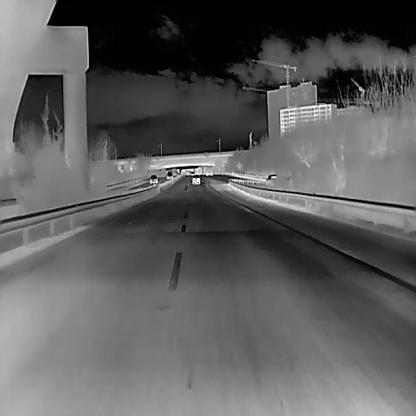car: (265, 173, 276, 185), (148, 174, 158, 183), (191, 174, 200, 184), (204, 166, 212, 174), (166, 170, 173, 178)
